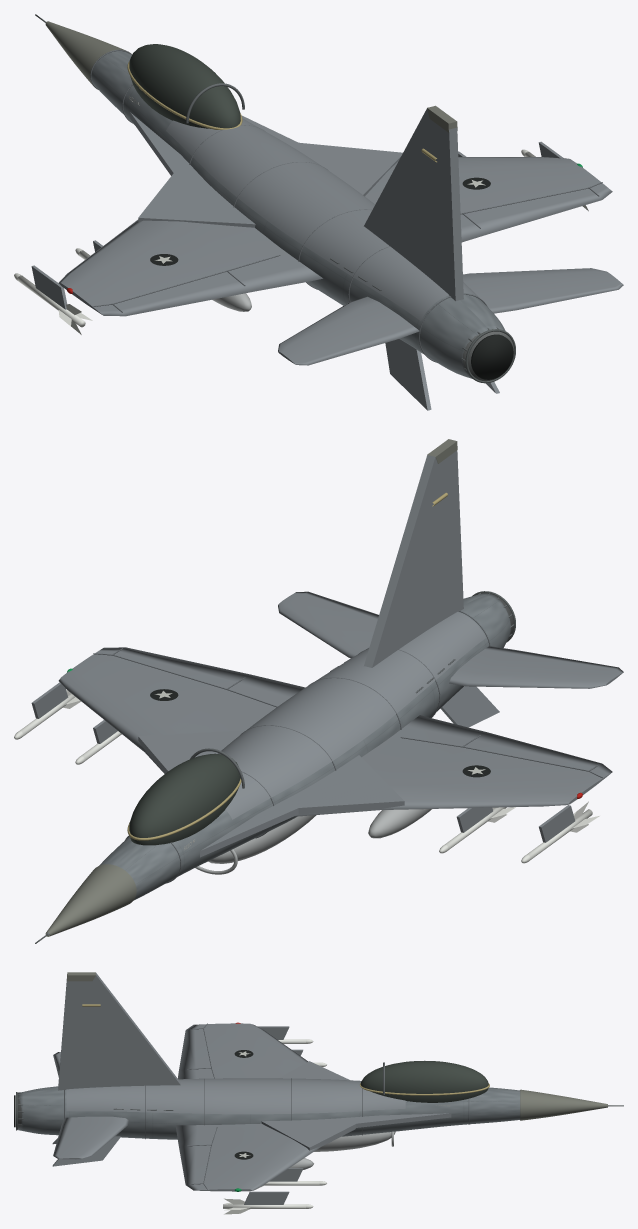
The model's file is f16-rebuilt.glb.
3 views of the same model, one above another, from view 1: azimuth 30°, elevation 25°; view 2: azimuth 150°, elevation 25°; view 3: azimuth 270°, elevation 25° (orthographic). The views are drawn at different scales.
Visible parts, largest first — view 1: Wings, Tail, Airframe panels, F-16 contoured fuselage, Cockpit, Ordnance, Exhaust, Panel seams, Markings; view 2: Wings, Tail, Airframe panels, F-16 contoured fuselage, Cockpit, Ordnance, Intake, Panel seams, Markings; view 3: Wings, Tail, Airframe panels, F-16 contoured fuselage, Cockpit, Ordnance, Intake, Panel seams.
Boxes of the visible parts, x1,y1,x2,y2 form: Wings: (58,112,612,316); Tail: (278,105,623,410); Airframe panels: (45,21,479,320); F-16 contoured fuselage: (90,49,505,378); Cockpit: (127,44,244,129); Ordnance: (14,141,588,334); Exhaust: (460,327,515,383); Panel seams: (90,50,602,362); Markings: (129,96,490,265); Wings: (58,647,612,857); Tail: (278,439,623,727); Airframe panels: (45,612,485,936); F-16 contoured fuselage: (47,593,510,935); Cockpit: (127,748,244,845); Ordnance: (14,682,599,863); Intake: (195,815,316,874); Panel seams: (93,610,602,883); Markings: (150,492,490,850); Wings: (175,1023,451,1191); Tail: (52,972,180,1166); Airframe panels: (66,1078,607,1120); F-16 contoured fuselage: (18,1086,608,1139); Cockpit: (360,1060,489,1102); Ordnance: (223,1026,326,1214); Intake: (314,1131,395,1151); Panel seams: (64,1023,520,1189).
Size of the model in its own units: 10.34 by 5.06 by 15.46.
15 materials, 1 textured.
